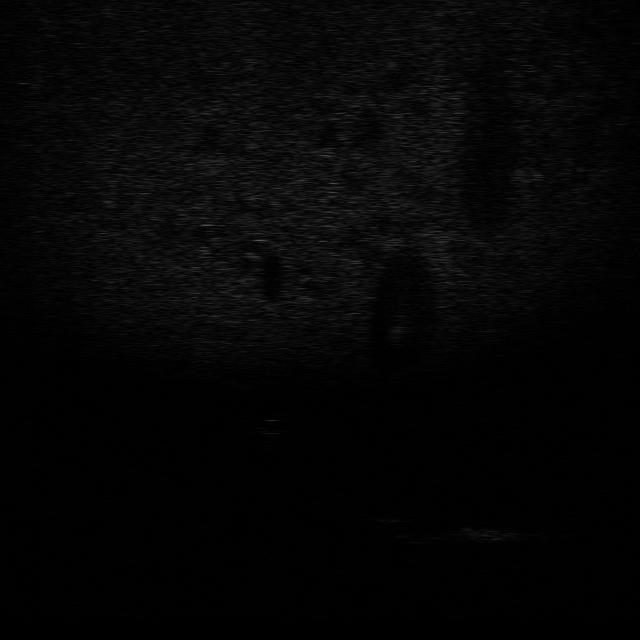ball: (252, 415, 288, 436)
metal bucket: (446, 523, 522, 546)
tyre: (373, 513, 438, 545)
